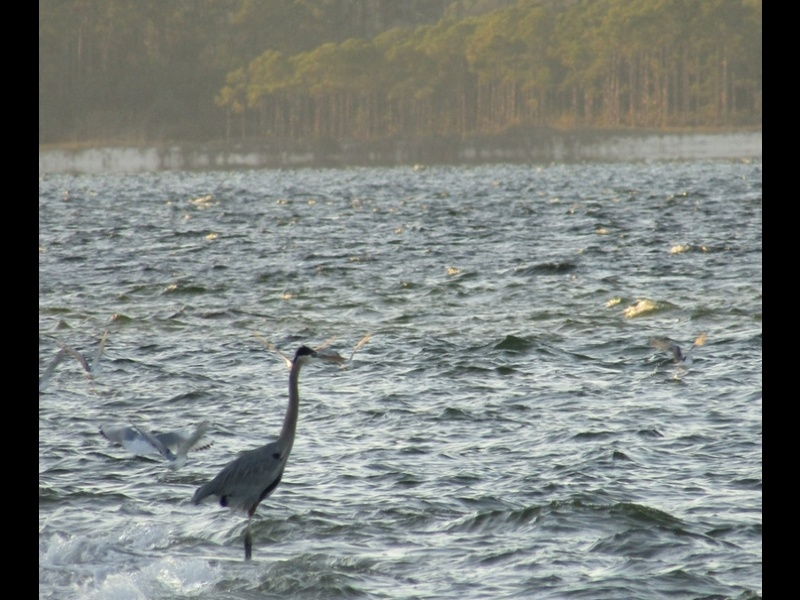heron: (192, 342, 340, 547)
